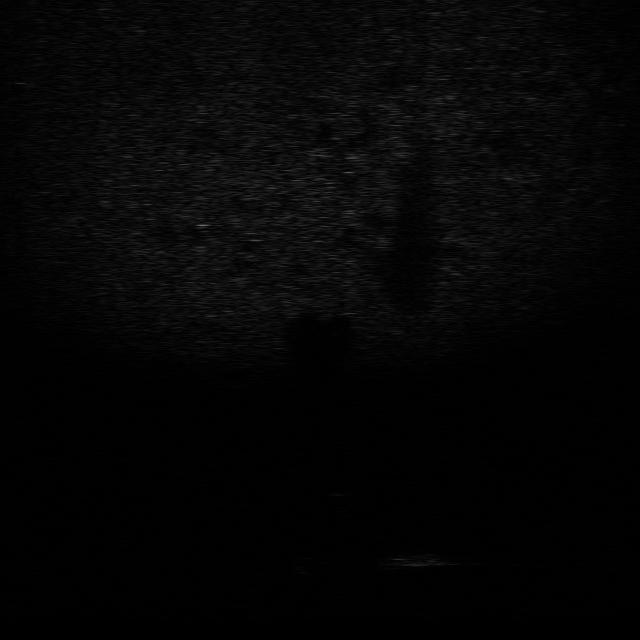ball: (318, 477, 354, 498)
metal bucket: (376, 548, 459, 574)
tyre: (284, 547, 331, 579)
